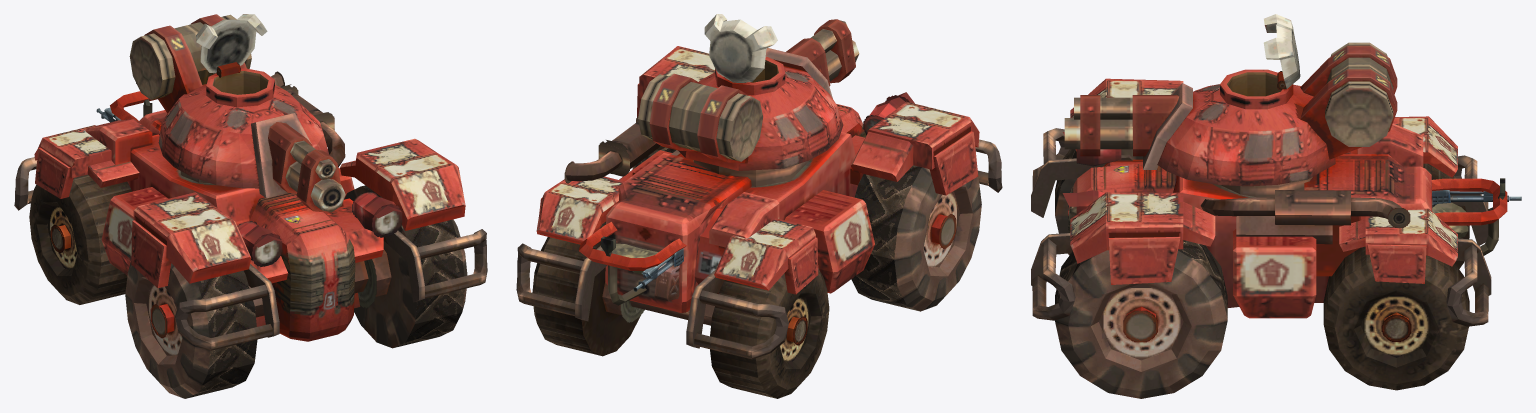
File: VTLTNKH.bgf.obj
3 views of the same model, side by side, from view 1: azimuth 30°, elevation 25°; view 2: azimuth 150°, elevation 25°; view 3: azimuth 270°, elevation 25° (orthographic). The views are drawn at different scales.
Parts seen in each view (by area): view 1: VTLTNK, TURRET, R_WHEEL_A, R_WHEEL_B, L_WHEEL_A, BARREL; view 2: VTLTNK, TURRET, R_WHEEL_A, R_WHEEL_B, L_WHEEL_B, BARREL, BARREL01; view 3: VTLTNK, TURRET, L_WHEEL_A, L_WHEEL_B, BARREL, R_WHEEL_A, BARREL01.
Part boxes in pixels (left/top/right/bottom): VTLTNK: left=14, top=71, right=487, bottom=350; TURRET: left=129, top=14, right=329, bottom=188; R_WHEEL_A: left=125, top=261, right=257, bottom=398; R_WHEEL_B: left=29, top=174, right=132, bottom=304; L_WHEEL_A: left=344, top=185, right=467, bottom=348; BARREL: left=251, top=113, right=345, bottom=212; VTLTNK: left=516, top=46, right=1002, bottom=359; TURRET: left=638, top=14, right=843, bottom=186; R_WHEEL_A: left=851, top=165, right=981, bottom=311; R_WHEEL_B: left=710, top=268, right=829, bottom=398; L_WHEEL_B: left=532, top=221, right=639, bottom=356; BARREL: left=765, top=19, right=859, bottom=98; BARREL01: left=633, top=248, right=683, bottom=300; VTLTNK: left=1031, top=78, right=1507, bottom=326; TURRET: left=1157, top=14, right=1397, bottom=197; L_WHEEL_A: left=1055, top=240, right=1227, bottom=398; L_WHEEL_B: left=1323, top=246, right=1469, bottom=390; BARREL: left=1064, top=83, right=1192, bottom=169; R_WHEEL_A: left=1055, top=149, right=1142, bottom=255; BARREL01: left=1432, top=190, right=1521, bottom=207.
Bounding box in the file's own units: 4.74 × 4.32 × 6.21.
14 materials, 14 textured.
